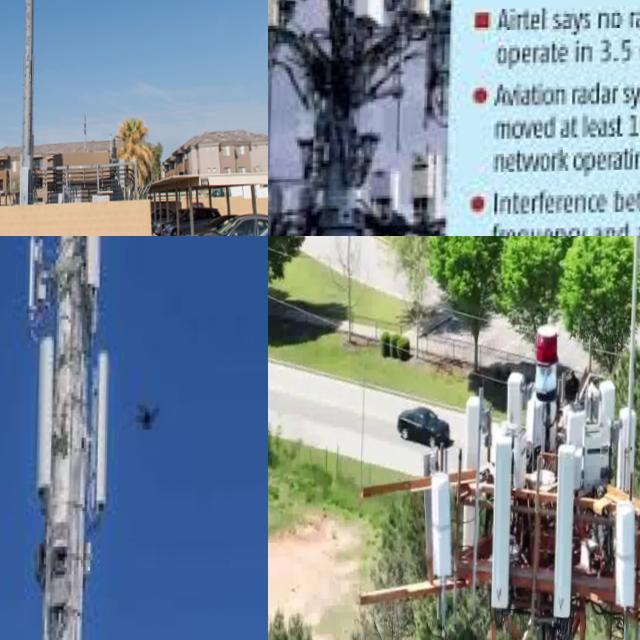GSM Antenna: (540, 436, 579, 640), (480, 434, 517, 633), (454, 388, 485, 555), (600, 496, 639, 622), (424, 473, 459, 594), (33, 337, 58, 498), (93, 341, 114, 517), (19, 236, 51, 324), (499, 373, 526, 436), (82, 236, 104, 293), (349, 0, 384, 33), (405, 0, 437, 32)
